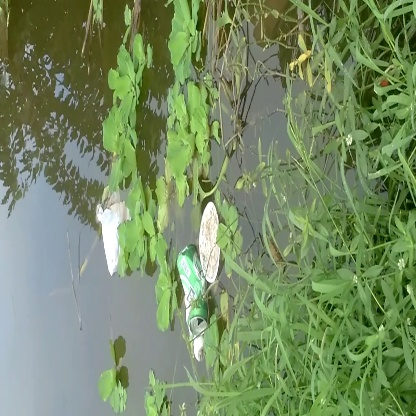bottle: (172, 240, 214, 331)
